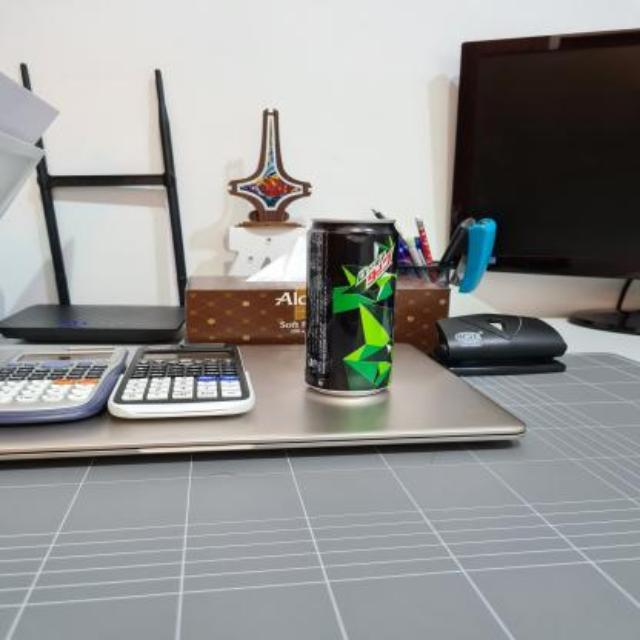metal: (306, 218, 397, 400)
